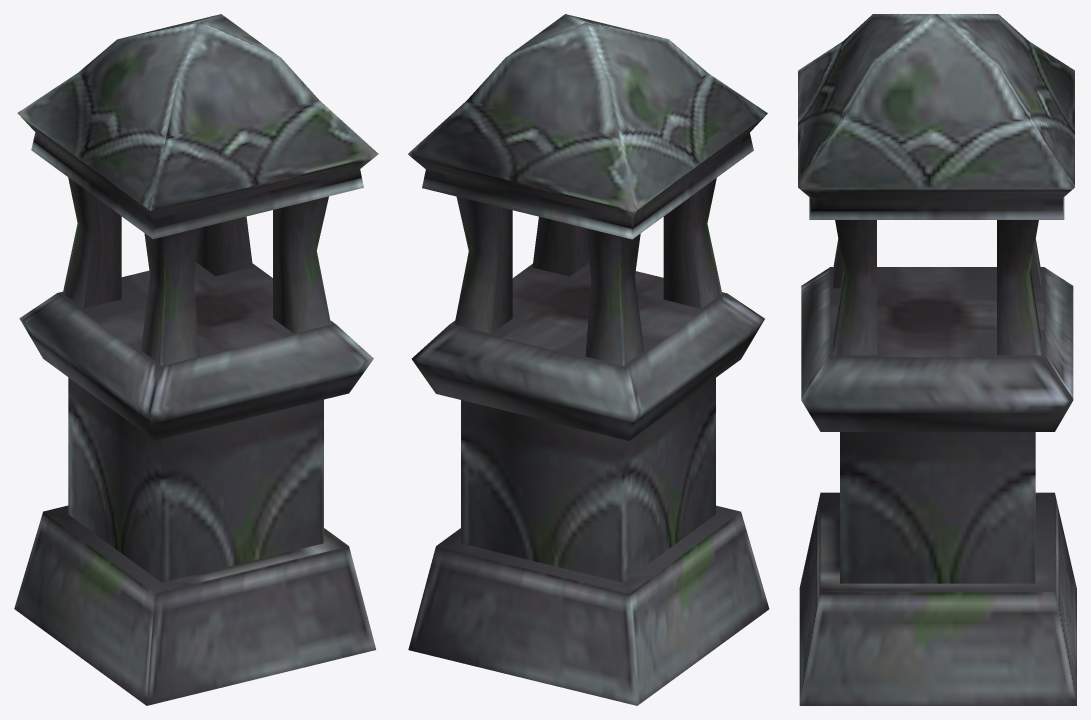
The model's file is Scene_StonePavilion_LOD0.FBX.
3 renders of one model, left to right at view 1: azimuth 30°, elevation 25°; view 2: azimuth 150°, elevation 25°; view 3: azimuth 270°, elevation 25°, orthographic. The views are drawn at different scales.
Visible parts, largest first — view 1: Scene_StonePavilion; view 2: Scene_StonePavilion; view 3: Scene_StonePavilion.
Boxes of the visible parts, x1,y1,x2,y2 form: Scene_StonePavilion: [14, 14, 378, 705]; Scene_StonePavilion: [408, 14, 769, 705]; Scene_StonePavilion: [798, 14, 1076, 705].
Size of the model in its own units: 27.65 by 69.26 by 27.58.
